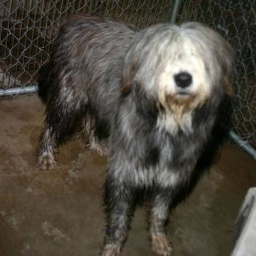dog: (39, 11, 228, 244)
